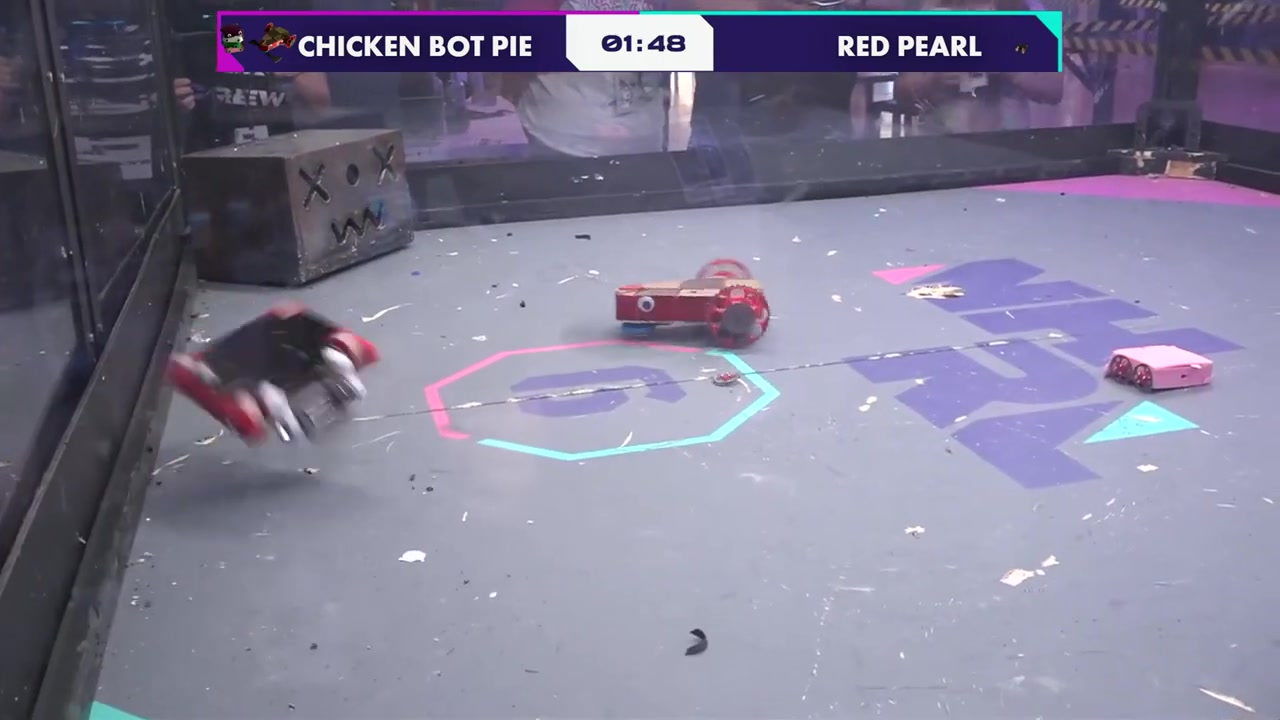combatbot: (167, 297, 380, 451), (612, 258, 770, 349)
debris: (686, 627, 706, 656), (716, 370, 740, 389)
housebot: (185, 129, 416, 286)
minibot: (1102, 344, 1215, 393)
